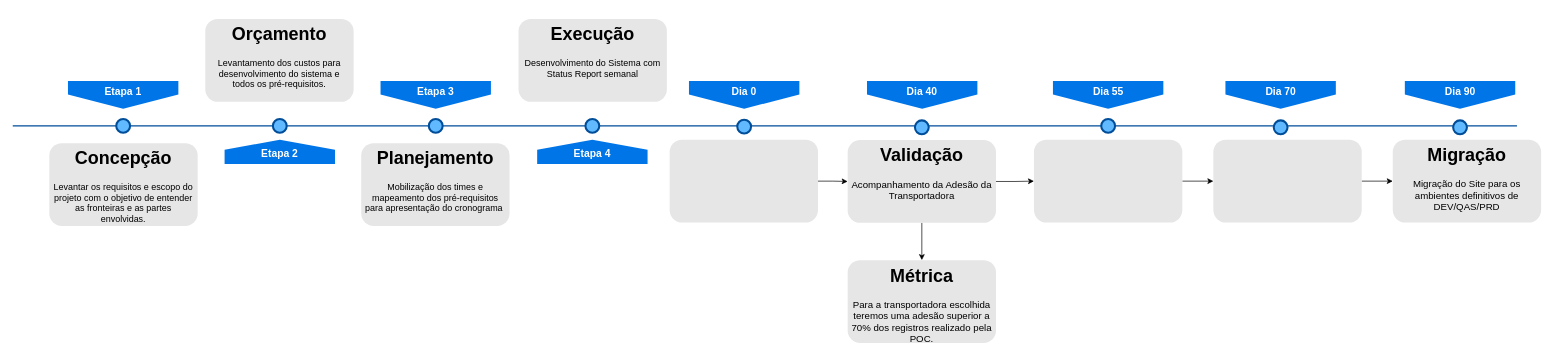
Image size: 1553x356. Some labels were removed from this diagram. The shapes that lost their labels are listed below. From the top down, each one's centre as x and y in pixels, then its label:
At (743,180): "Entrega Plano de Implantação, divulgação e treinamento dos usuários.".
At (1108,180): "Orçamento Orçamento dos ambientes definitivos de infraestrutura.".
At (1287,180): "Aprovação Envio da PEP para absorver os custos de infraestrutura.".
